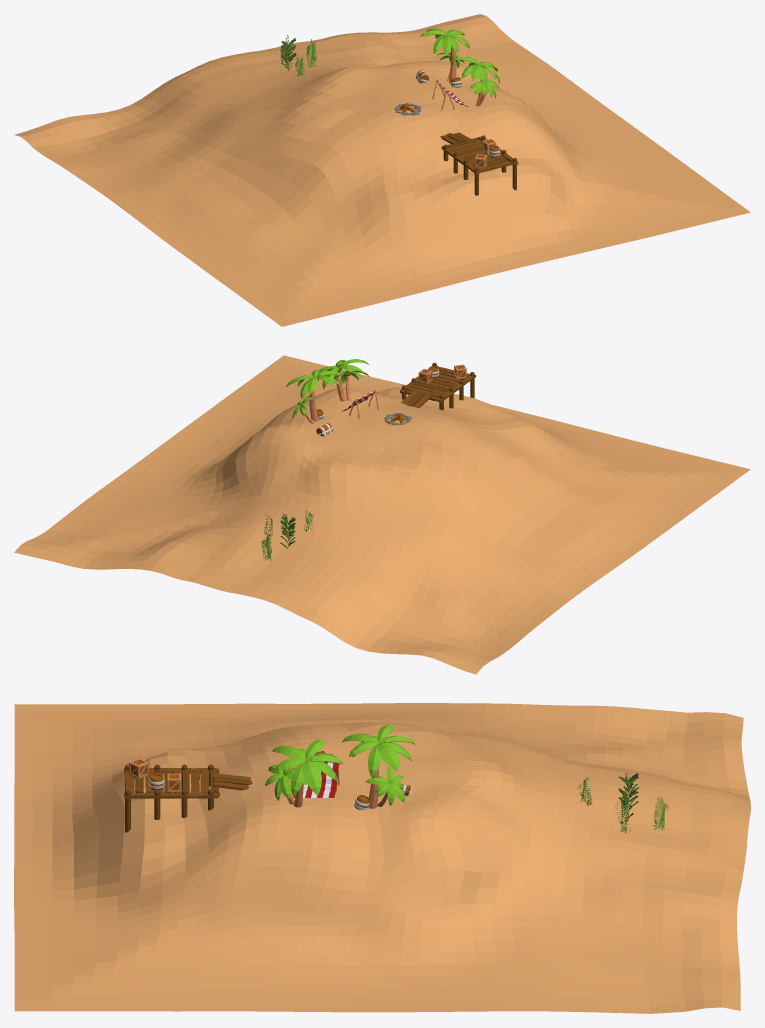
The model's file is island.glb.
The picture shows the model from 3 angles, top to bottom: view 1: azimuth 30°, elevation 25°; view 2: azimuth 150°, elevation 25°; view 3: azimuth 270°, elevation 25°; orthographic projection. The views are drawn at different scales.
Visible parts, largest first — view 1: Island; view 2: Island; view 3: Island, Tarp, Cube.012.
Part boxes in pixels (box(x1,y1,x2,y2)): Island: box(14, 14, 750, 326); Island: box(14, 355, 750, 674); Island: box(14, 703, 750, 1013); Tarp: box(293, 762, 339, 797); Cube.012: box(124, 792, 219, 798).
Size of the model in its own units: 11.43 by 3.11 by 11.58.
